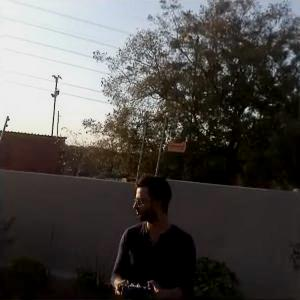follow: (104, 162, 200, 298)
